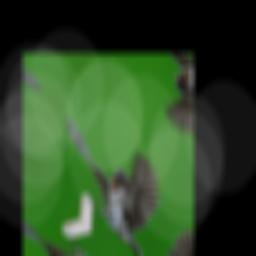Swallow: (44, 83, 181, 256)
